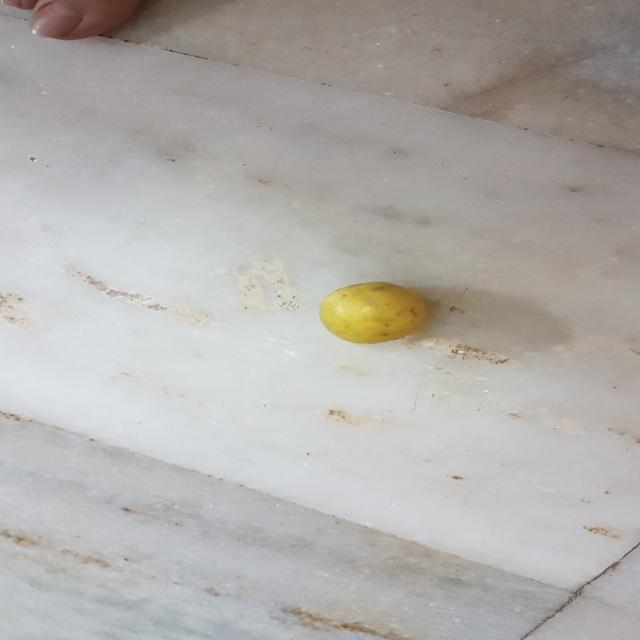lemon: (312, 272, 444, 346)
